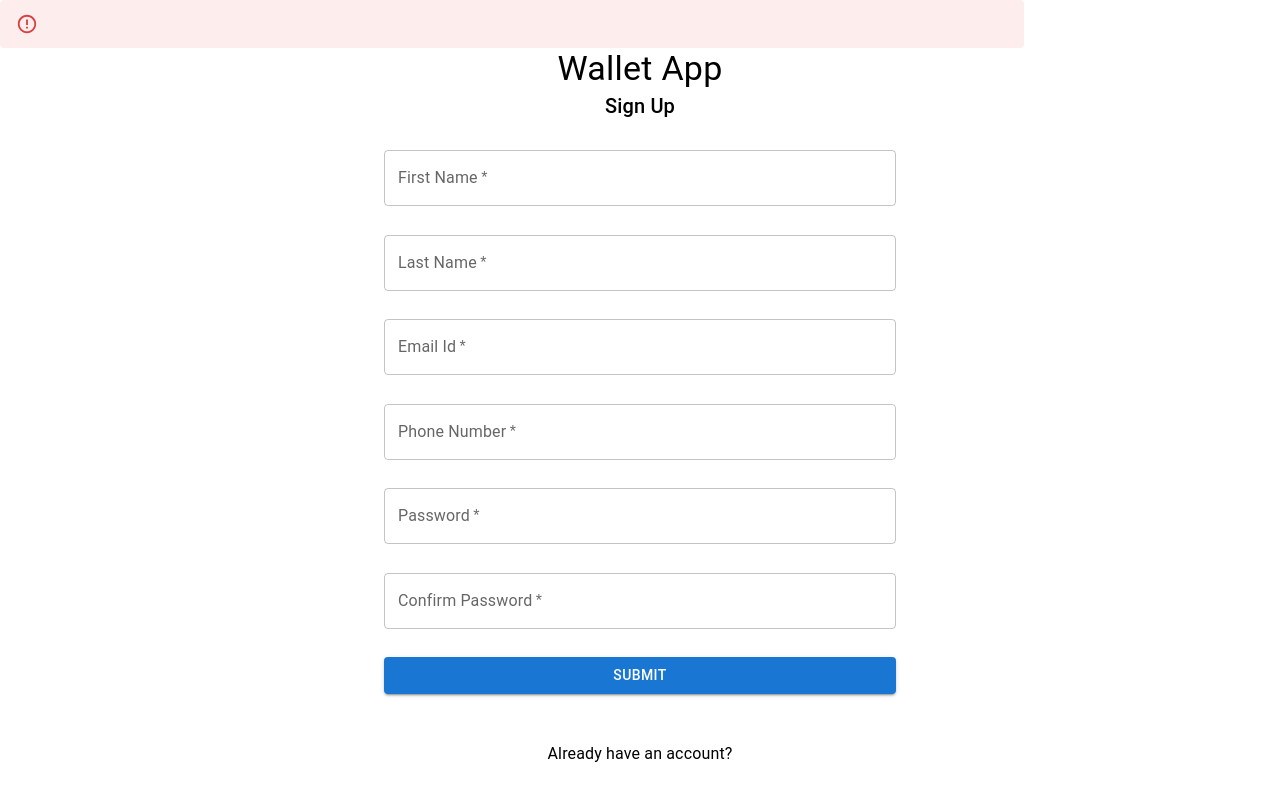
Test: SignUpPage Component › invalid phone number
Type "John" into the field with placeholder "First Name".
click(640, 178); type("John")  # box [384, 150, 896, 206]
Type "Kelly" into the field with placeholder "Last Name".
click(640, 263); type("Kelly")  # box [384, 235, 896, 291]
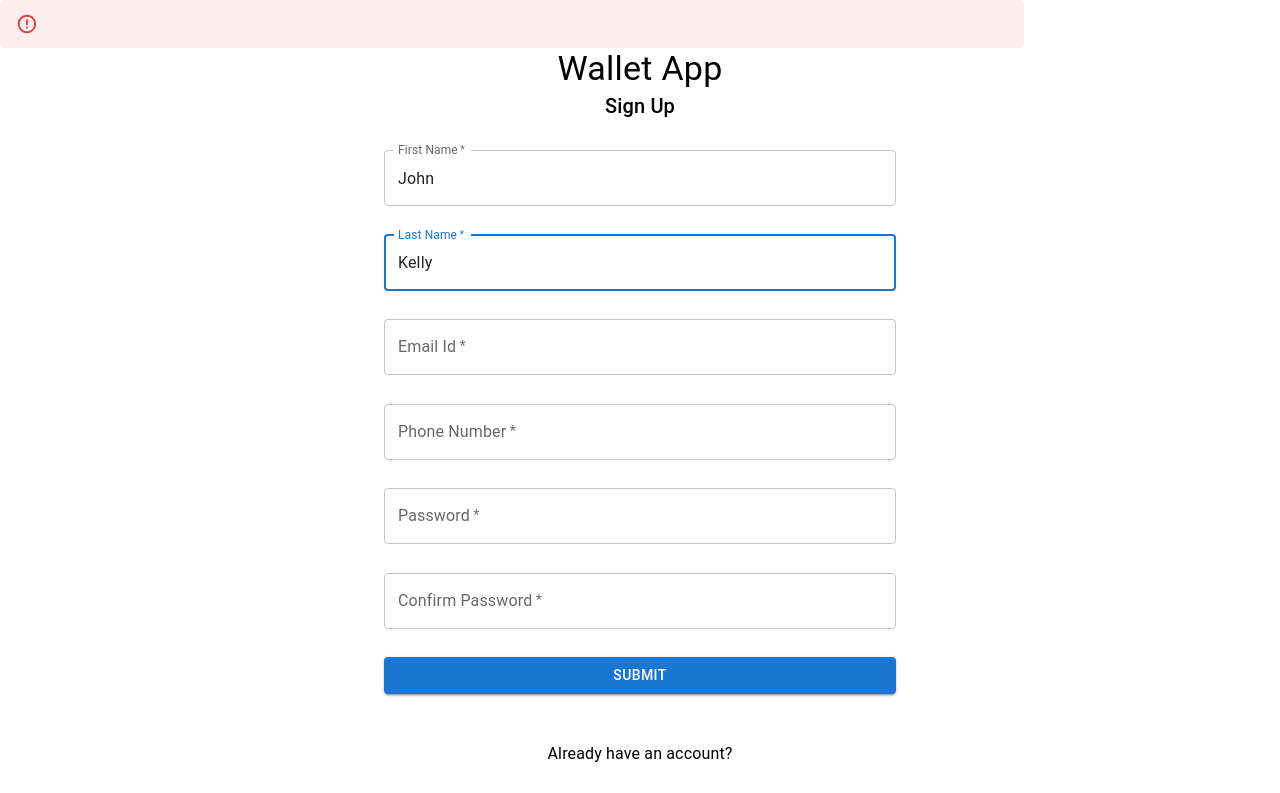
Type "john.kelly@mail.com" into the field with placeholder "Email Id".
click(640, 347); type("john.kelly@mail.com")  # box [384, 319, 896, 375]
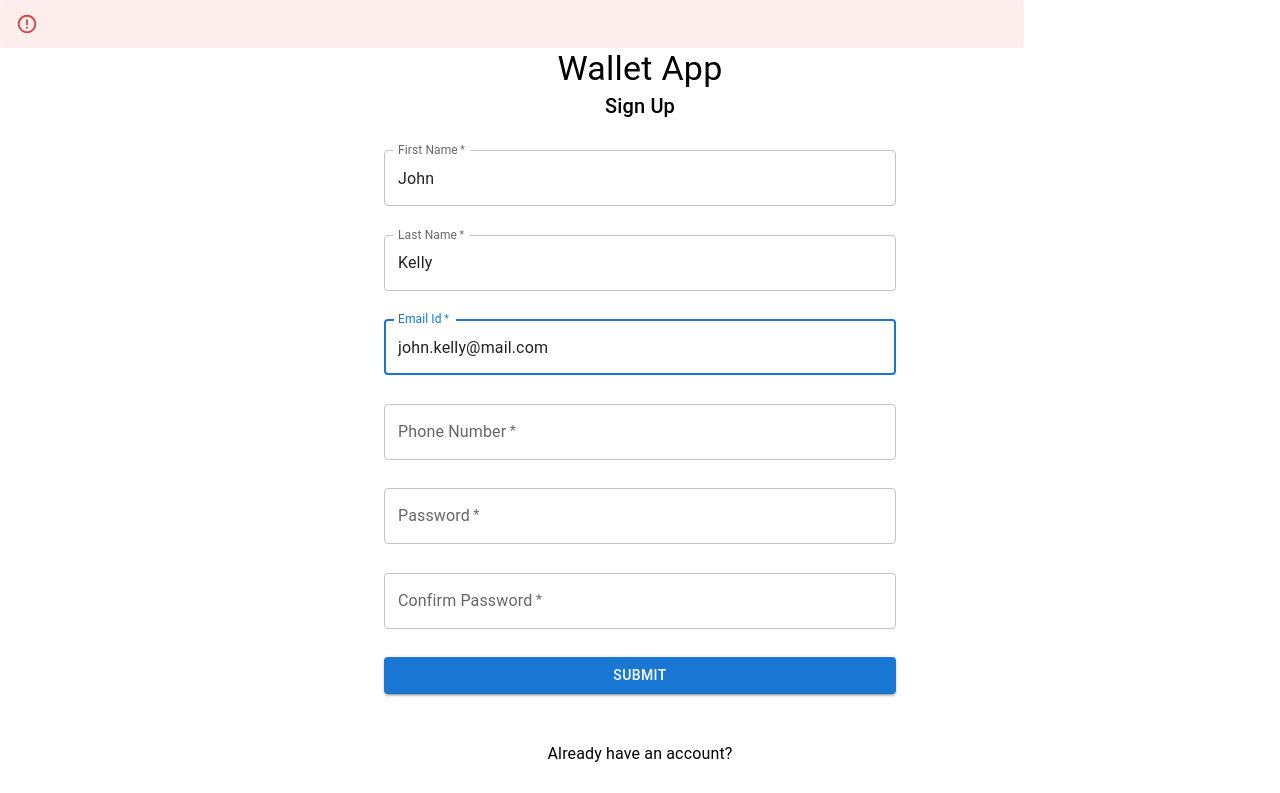
Type "-1234567890" into the number field with placeholder "Phone Number".
click(640, 432); type("-1234567890")  # box [384, 404, 896, 460]
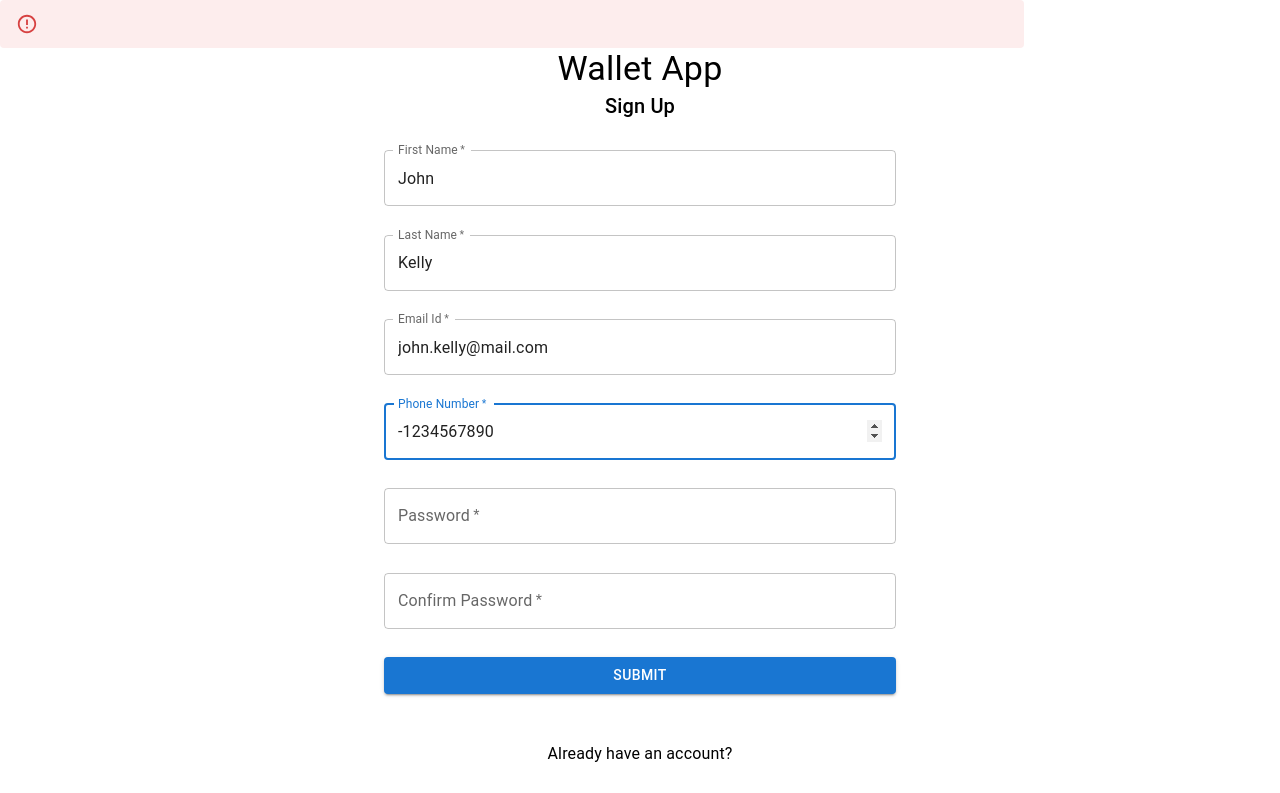
Type "password123" into the password field with placeholder "Password".
click(640, 516); type("password123")  # box [384, 488, 896, 544]
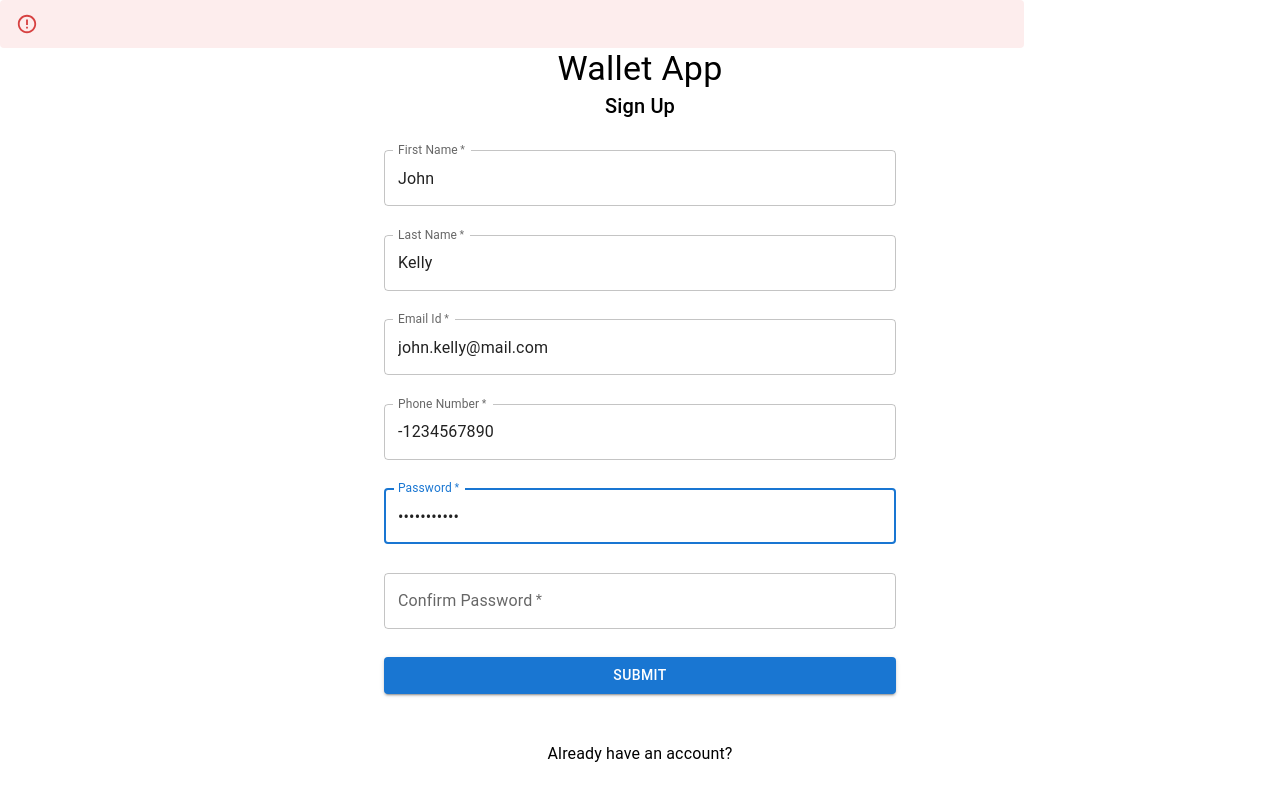
Type "password123" into the field with placeholder "Confirm Password".
click(640, 601); type("password123")  # box [384, 573, 896, 629]
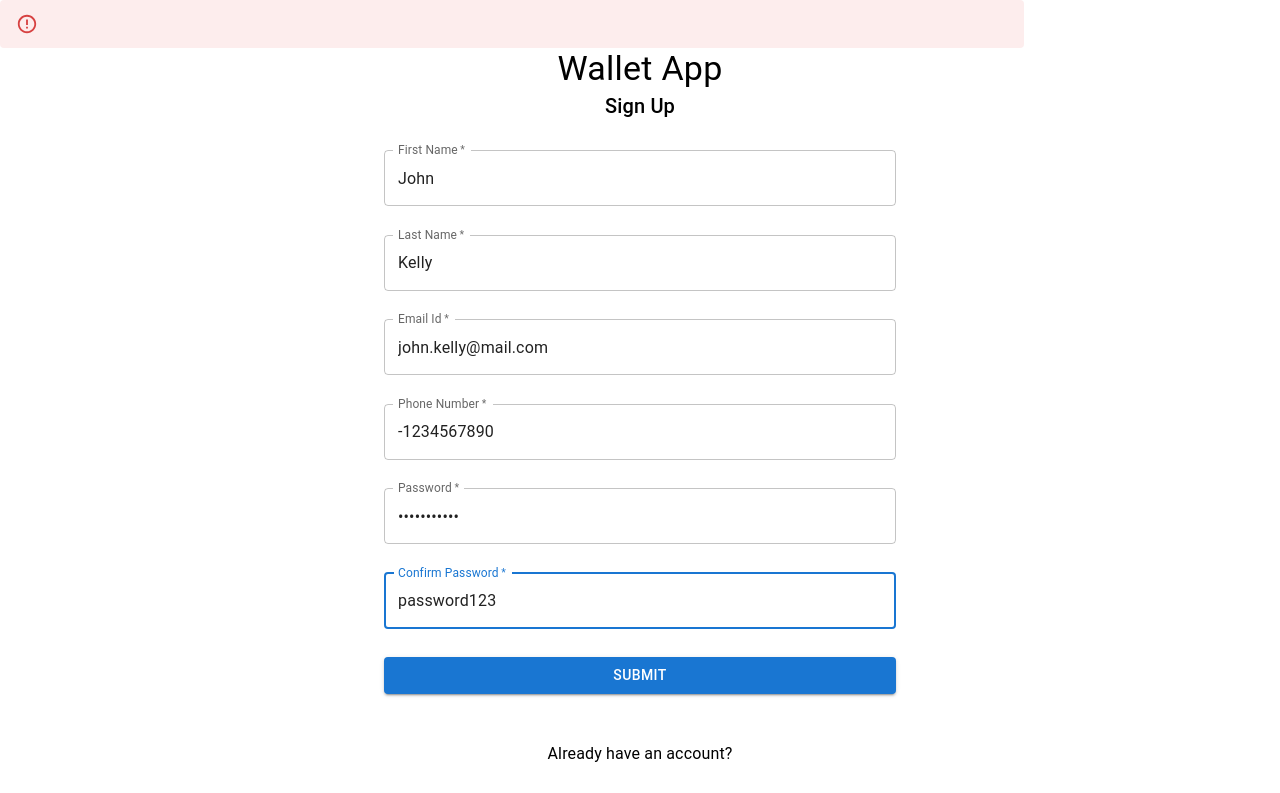
Submit the form from the button "Submit", box [384, 657, 896, 694]
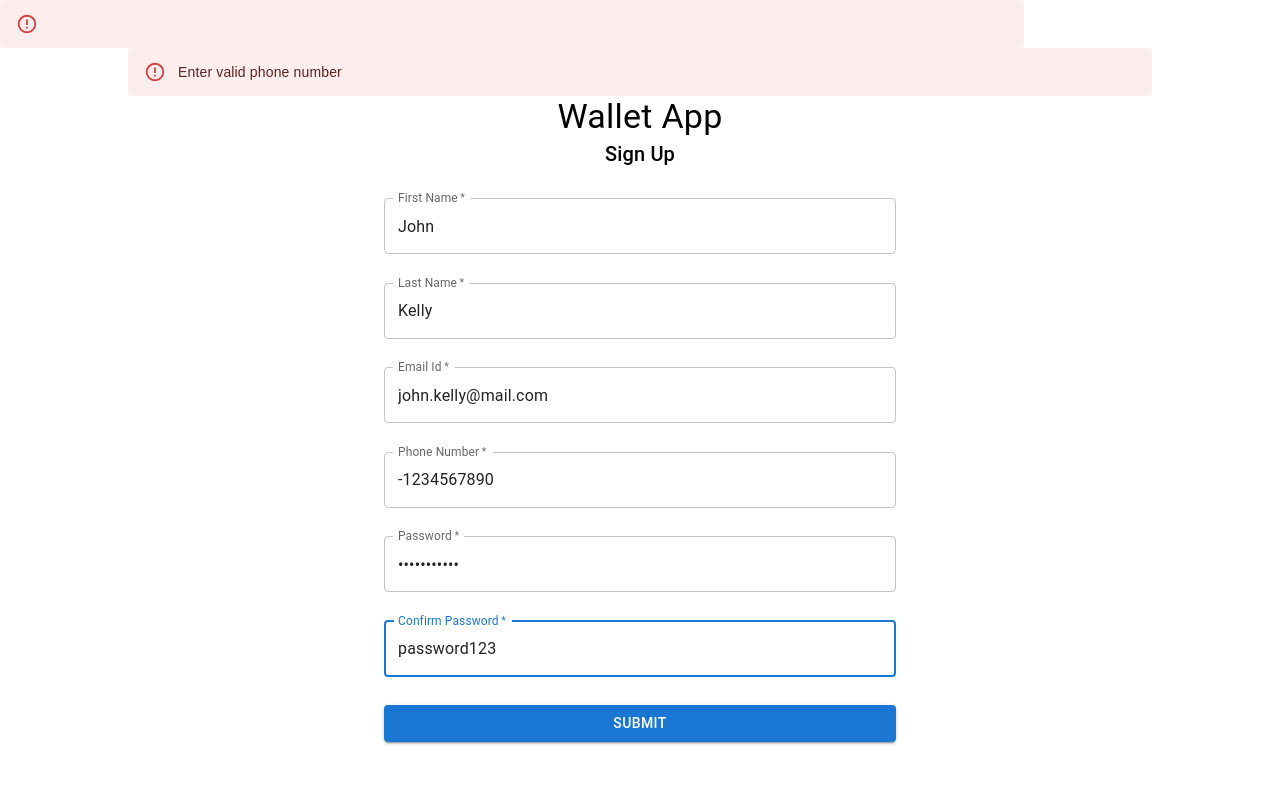
Expected: the text "Enter valid phone number" is shown, [178, 64, 342, 80]
